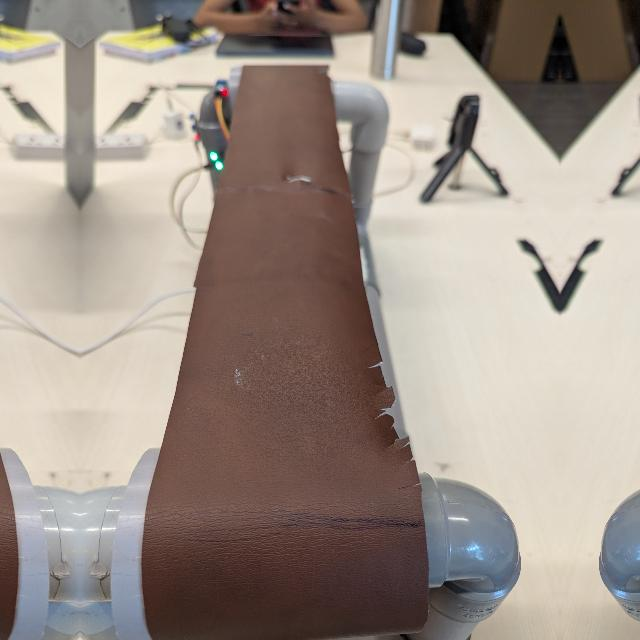edge_damage: (361, 347, 426, 501)
joint_damage: (278, 166, 325, 192)
